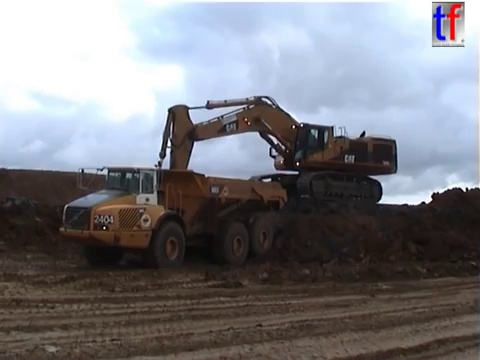excavator: (145, 93, 400, 230)
truck: (55, 158, 292, 271)
